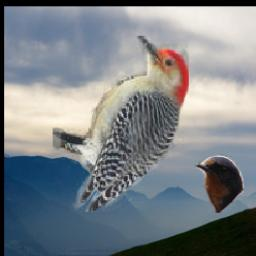Swallow: (194, 154, 244, 213)
Woodpecker: (53, 37, 189, 213)
